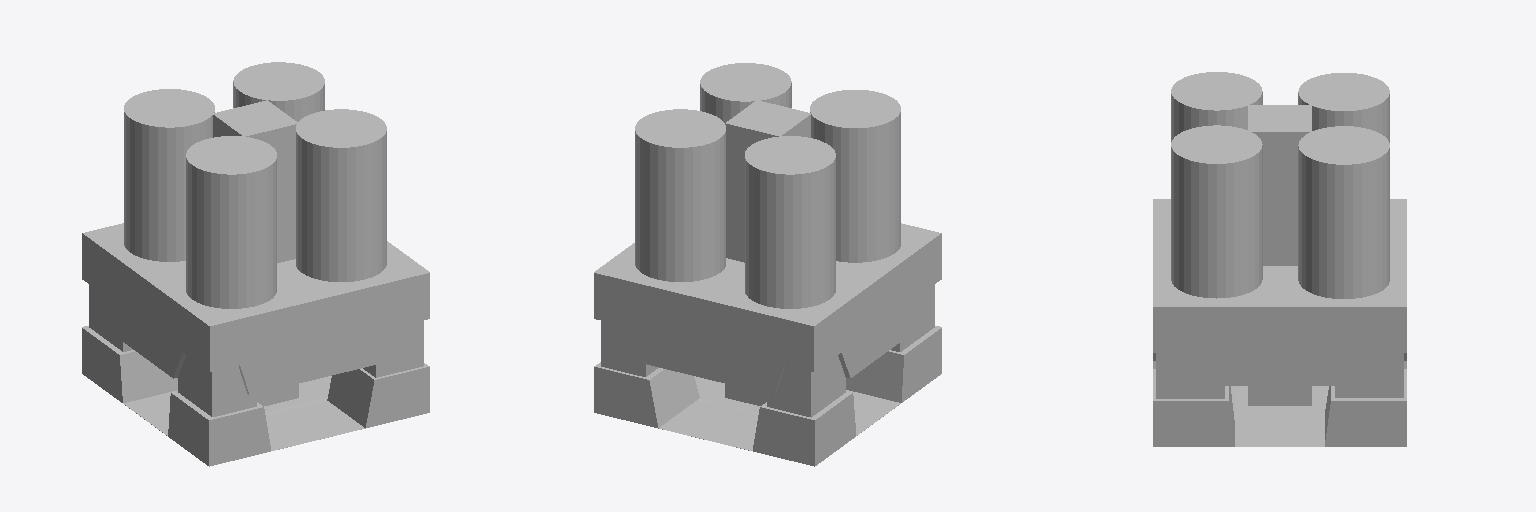
Rendered from power_plant.obj.
The picture shows the model from 3 angles: view 1: azimuth 30°, elevation 25°; view 2: azimuth 150°, elevation 25°; view 3: azimuth 270°, elevation 25°; orthographic projection.
Parts seen in each view (by area): view 1: Cube_Cube.002, Cylinder.002, Cylinder.001, Cylinder.003, Cylinder.004; view 2: Cube_Cube.002, Cylinder.003, Cylinder.004, Cylinder.002, Cylinder.001; view 3: Cube_Cube.002, Cylinder.004, Cylinder.001, Cylinder.003, Cylinder.002.
Boxes of the visible parts, <box> form: Cube_Cube.002: <box>82,100,429,466</box>; Cylinder.002: <box>186,136,276,308</box>; Cylinder.001: <box>296,109,386,281</box>; Cylinder.003: <box>124,89,214,261</box>; Cylinder.004: <box>233,62,324,121</box>; Cube_Cube.002: <box>594,100,941,466</box>; Cylinder.003: <box>745,136,835,308</box>; Cylinder.004: <box>635,109,725,281</box>; Cylinder.002: <box>810,90,900,262</box>; Cylinder.001: <box>700,63,791,122</box>; Cube_Cube.002: <box>1153,105,1406,446</box>; Cylinder.004: <box>1298,126,1389,298</box>; Cylinder.001: <box>1171,125,1262,298</box>; Cylinder.003: <box>1298,73,1389,142</box>; Cylinder.002: <box>1171,72,1262,141</box>.
Size of the model in its own units: 1 by 1.19 by 1.